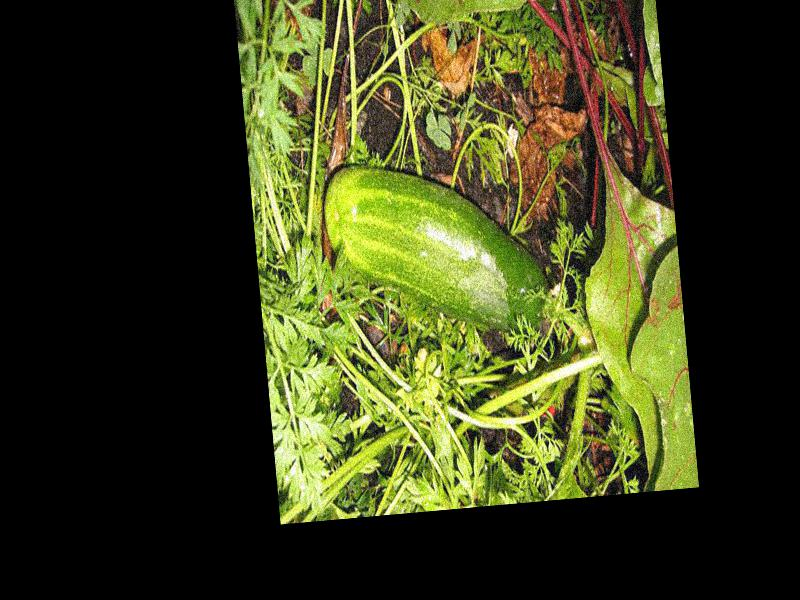Cucumber: (323, 148, 552, 354)
